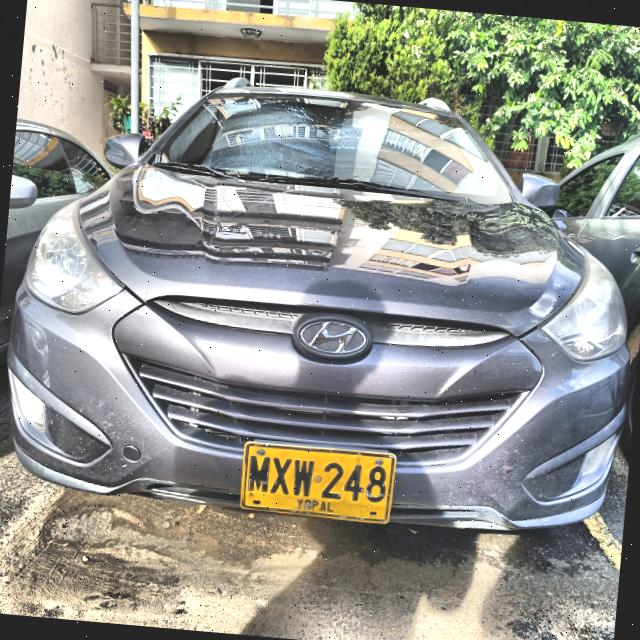plate: (242, 444, 394, 522)
